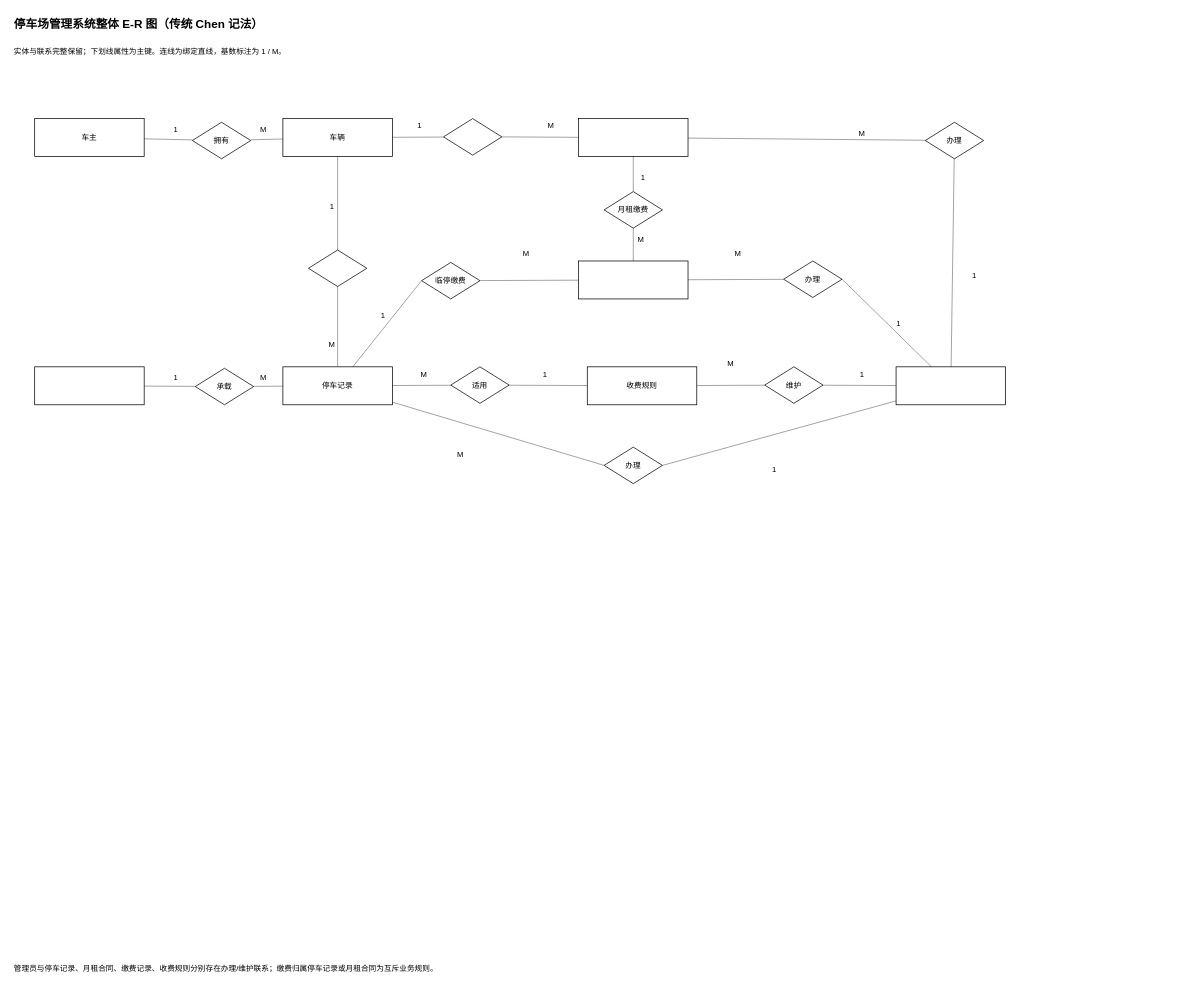
Some shapes in this 1193 by 991 pixel diagram are drawn without their labels. The centre of each missing label's shape, as x and y in pixels:
产生: the point at 337,268
月租合同: the point at 633,137
签订: the point at 472,136
管理员: the point at 950,385
缴费记录: the point at 633,279
车位: the point at 89,385
